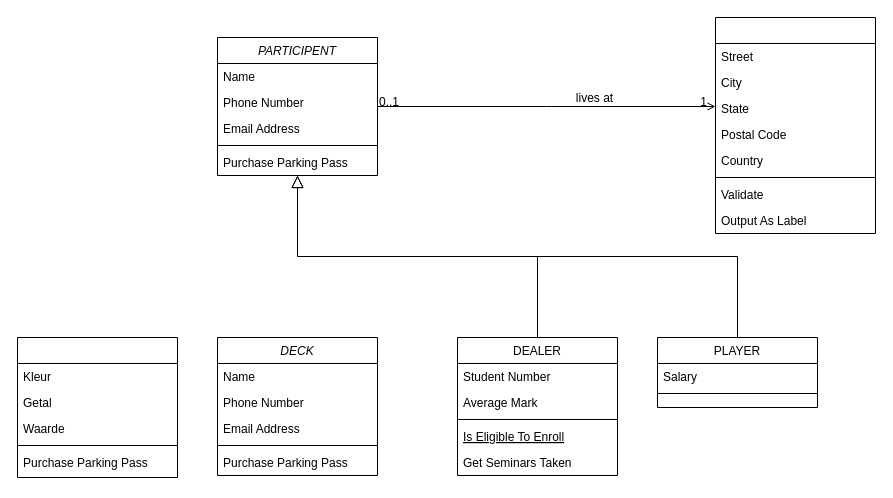
Image size: 893x498. Some labels were removed from this diagram. The shapes that lost their labels are listed below. From the top down, each one's box as (x1, y1, x2, y2) in pixels, then its label:
(714, 16, 876, 234): HAND
(16, 336, 178, 478): Blackjack
